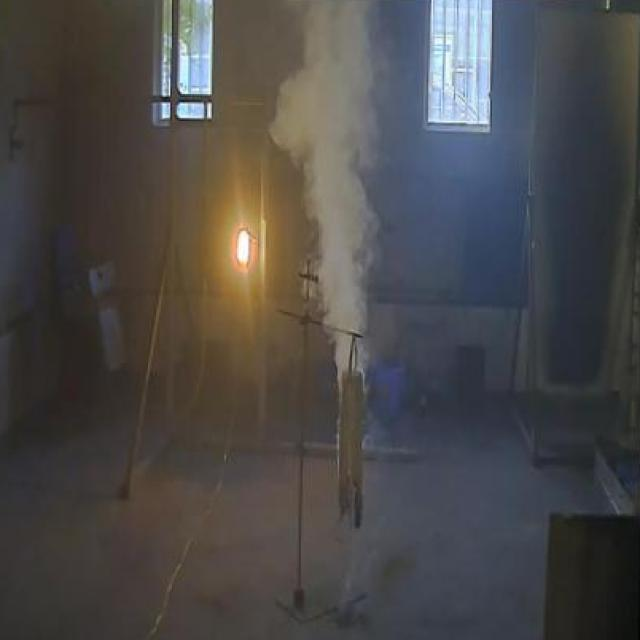fire: (268, 0, 386, 341)
